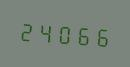four: (36, 18, 53, 46)
six: (72, 20, 89, 48), (90, 21, 107, 49)
two: (18, 16, 35, 44)
zero: (54, 19, 71, 47)
